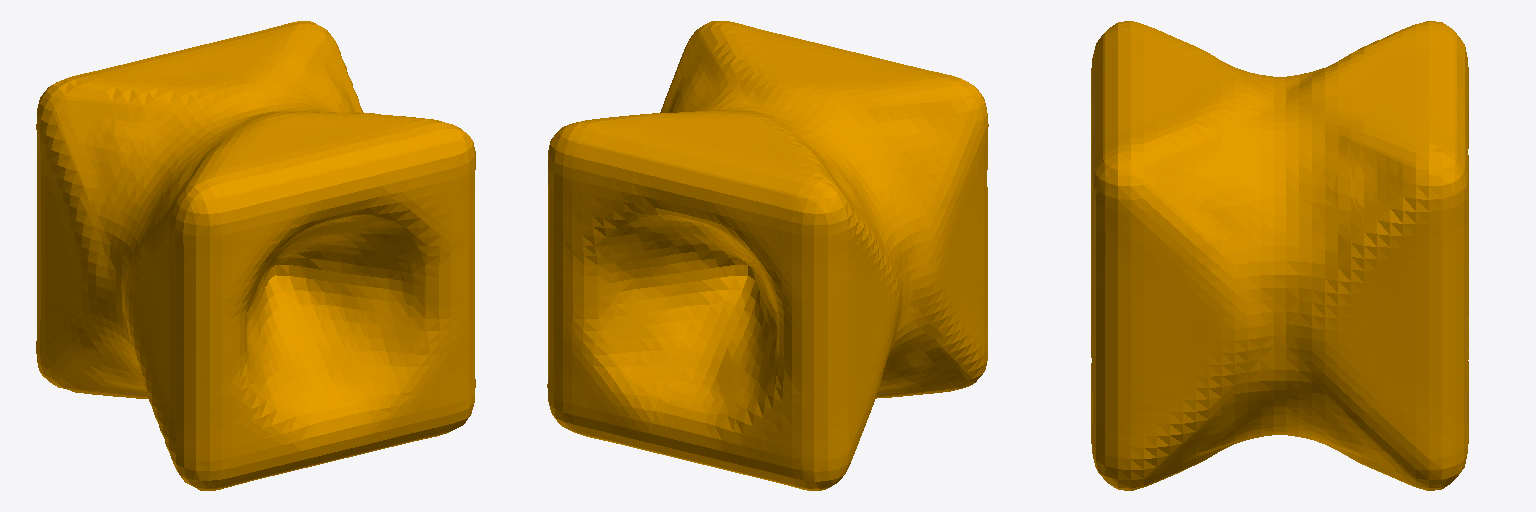
The robot description file, URDF, robot "N03_1":
<?xml version="1.0"?>
<robot name="N03_1">
  <link name="base_link">
    <visual>
      <geometry>
        <mesh filename="../../../../meshes/egad/train/N03_1.obj" />
      </geometry>
    </visual>
  </link>
</robot>

--- What the picture shows (computed from the rendered views, not written in the file) ---
Views: 3 orthographic renders of the robot side by side, from view 1: azimuth 30°, elevation 25°; view 2: azimuth 150°, elevation 25°; view 3: azimuth 270°, elevation 25°.
Robot: N03_1 — 1 links, 0 joints (none); root link base_link; default pose: all joints at 0.
Visible links, largest first — view 1: base_link; view 2: base_link; view 3: base_link.
Boxes of the visible links, x1,y1,x2,y2 form: base_link: (36, 21, 475, 490); base_link: (547, 21, 988, 490); base_link: (1091, 21, 1468, 490).
Size in the robot's own frame: 0.0601 by 0.06 by 0.06 metres.
Meshes: 1 distinct files referenced, 1 mesh visuals loaded (1 OBJ).